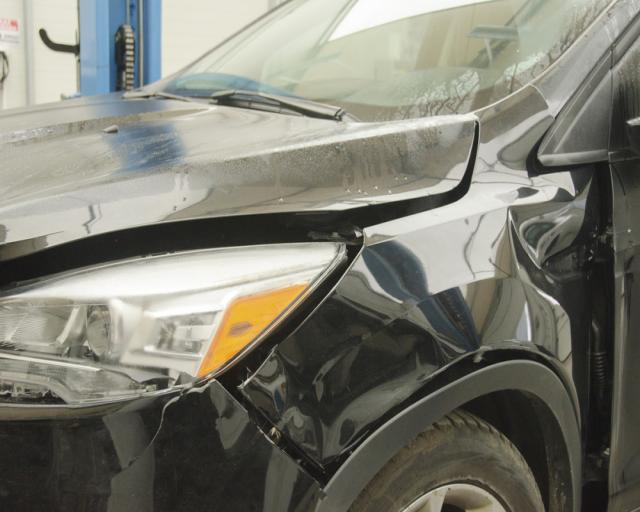crack: (112, 391, 181, 477)
dent: (256, 234, 463, 468), (507, 209, 592, 406)
